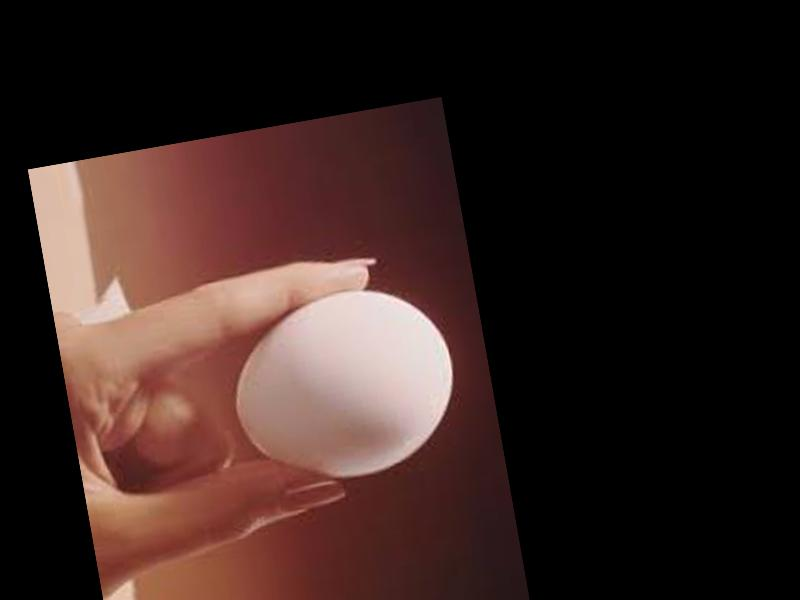Eggs: (217, 276, 467, 498)
